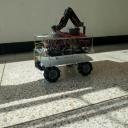cart: (34, 34, 95, 83)
